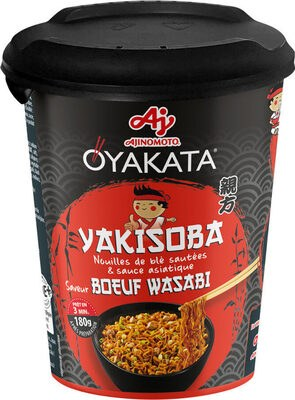Yakisoba saveur boeuf wasabi: (15, 20, 280, 380)
